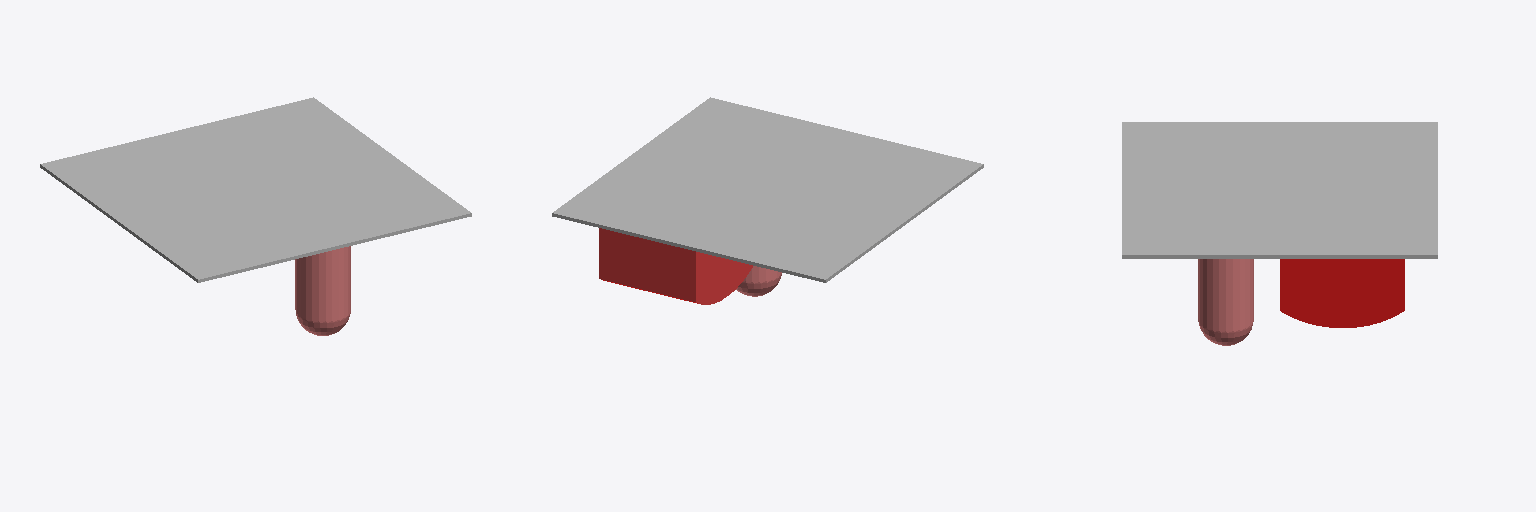
File: Partfarmer.obj
3 renders of one model, left to right at view 1: azimuth 30°, elevation 25°; view 2: azimuth 150°, elevation 25°; view 3: azimuth 270°, elevation 25°, orthographic.
Parts seen in each view (by area): view 1: Solid1; view 2: Solid1; view 3: Solid1.
Part boxes in pixels (bbox=[...]): Solid1: bbox=[40, 97, 471, 335]; Solid1: bbox=[552, 97, 983, 304]; Solid1: bbox=[1122, 122, 1437, 345].
Bounding box in the file's own units: 85 × 40 × 85.